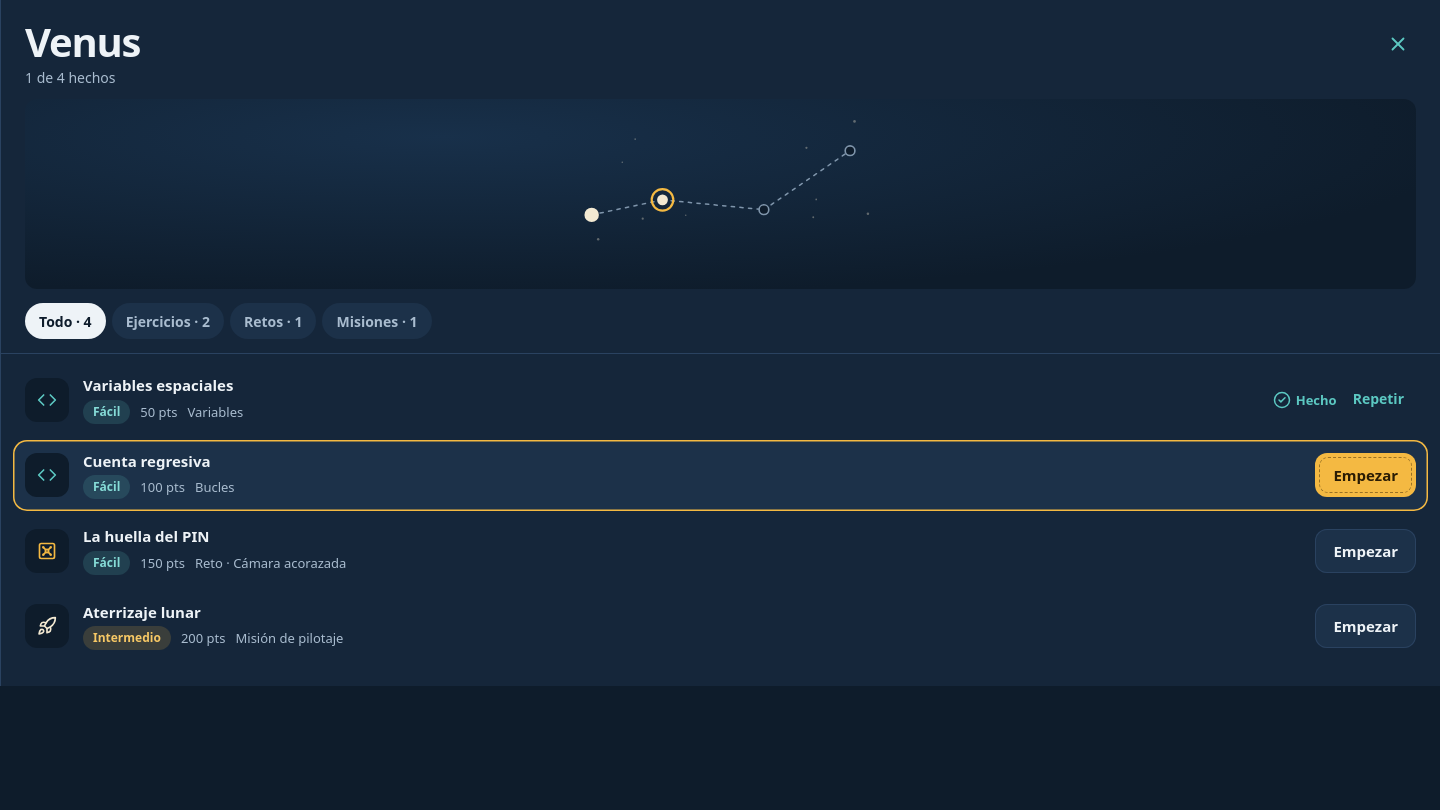
Test: los filtros enseñan solo los tipos que hay y filtran la lista
The image size is (1440, 810).
Click the button "Retos · 1".
click(273, 321)  # box [230,303,316,339]
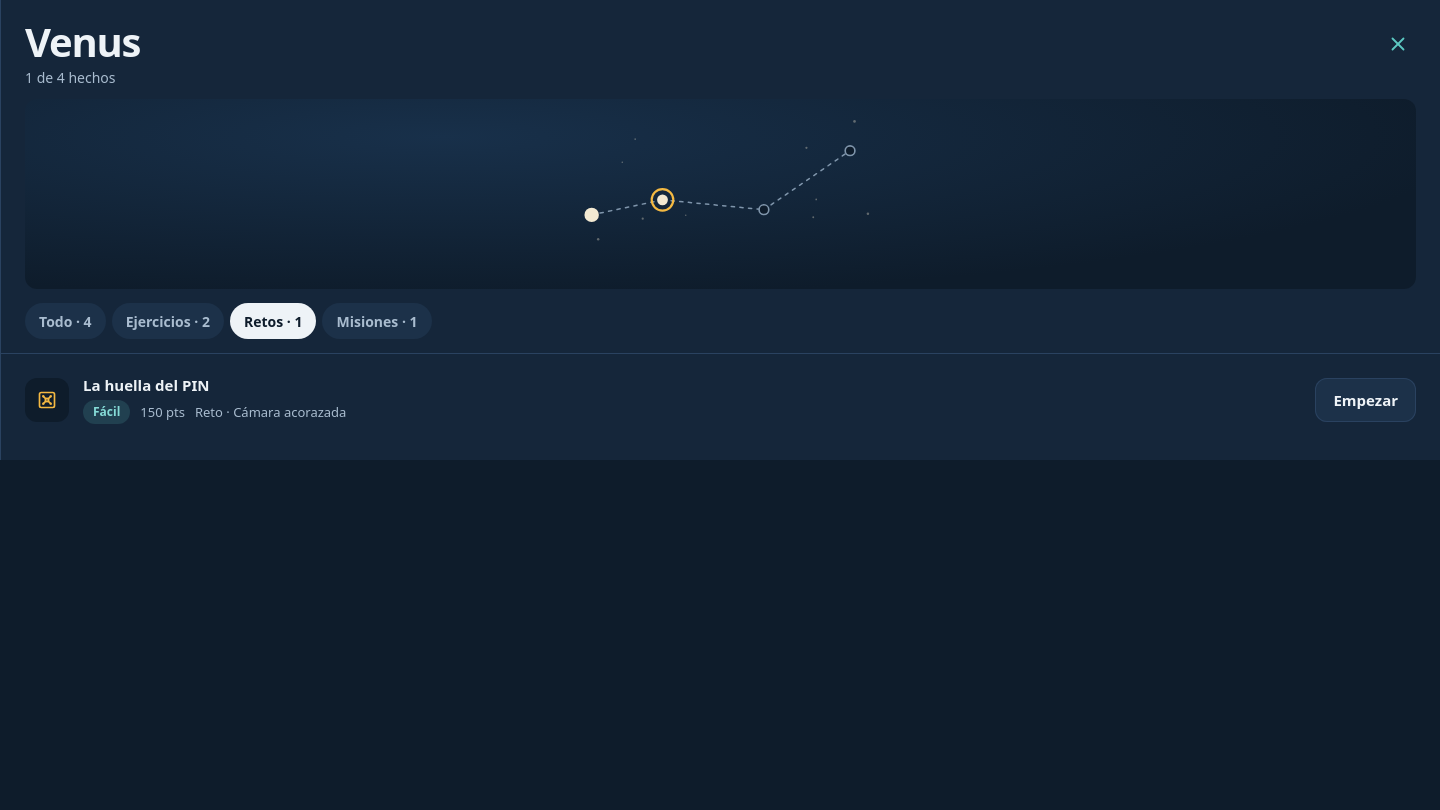
Expected: the text "Reto · Cámara acorazada" is shown, [195,402,346,420]
Expected: the number of list items is 1, [13,364,1428,436]
